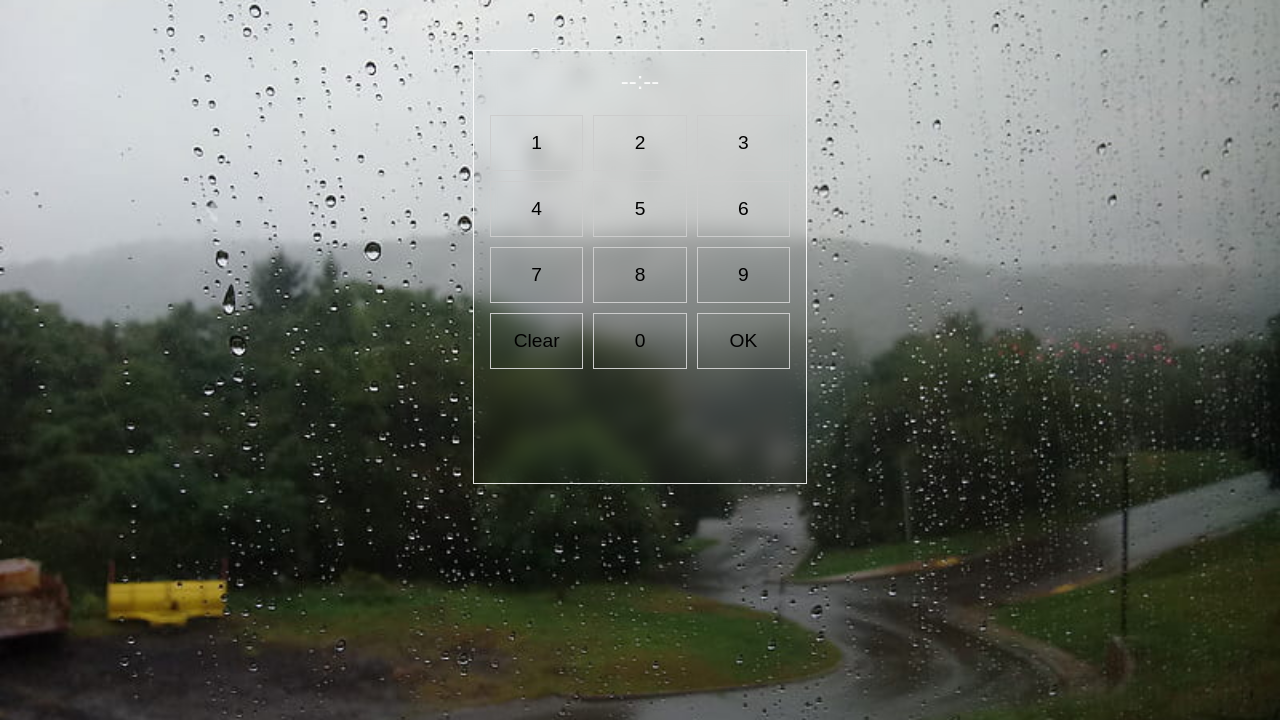
Test: Alarm › clears time when Clear is clicked
The width and height of the screenshot is (1280, 720).
Click the button "0" at x=640, y=341, box [593,313,687,369]
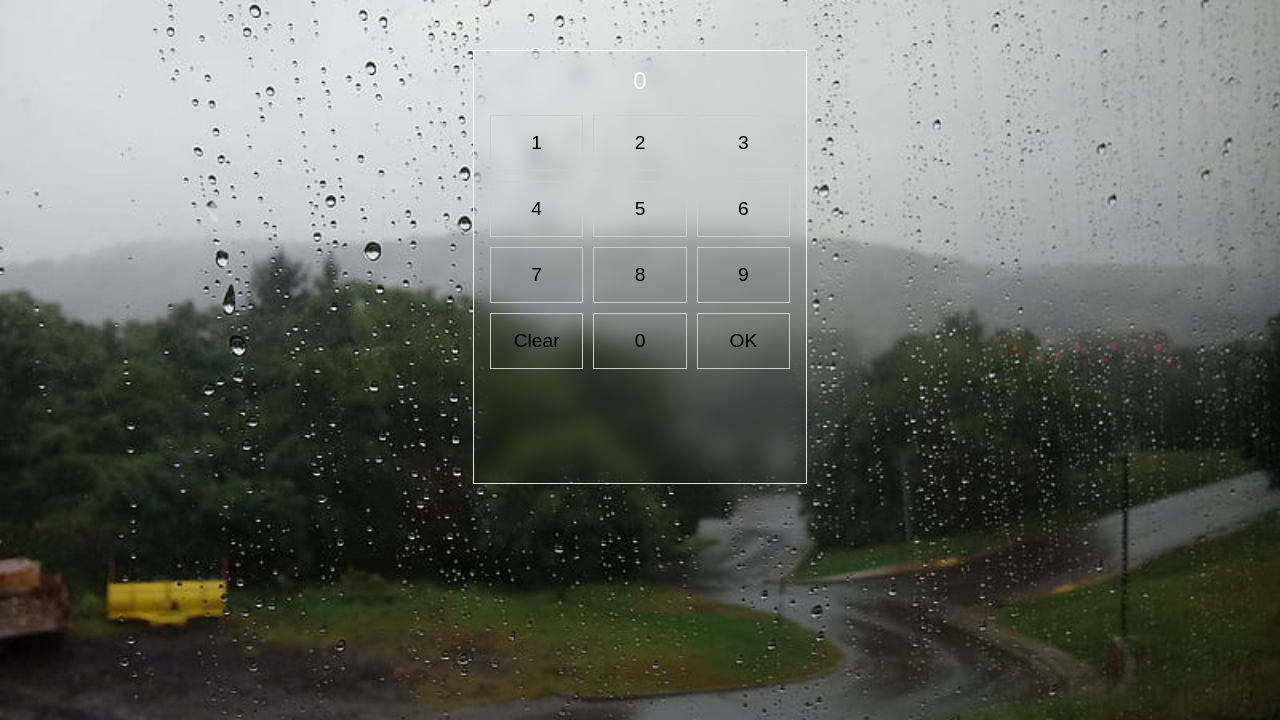
Click the button "9" at x=743, y=275, box [697,247,790,303]
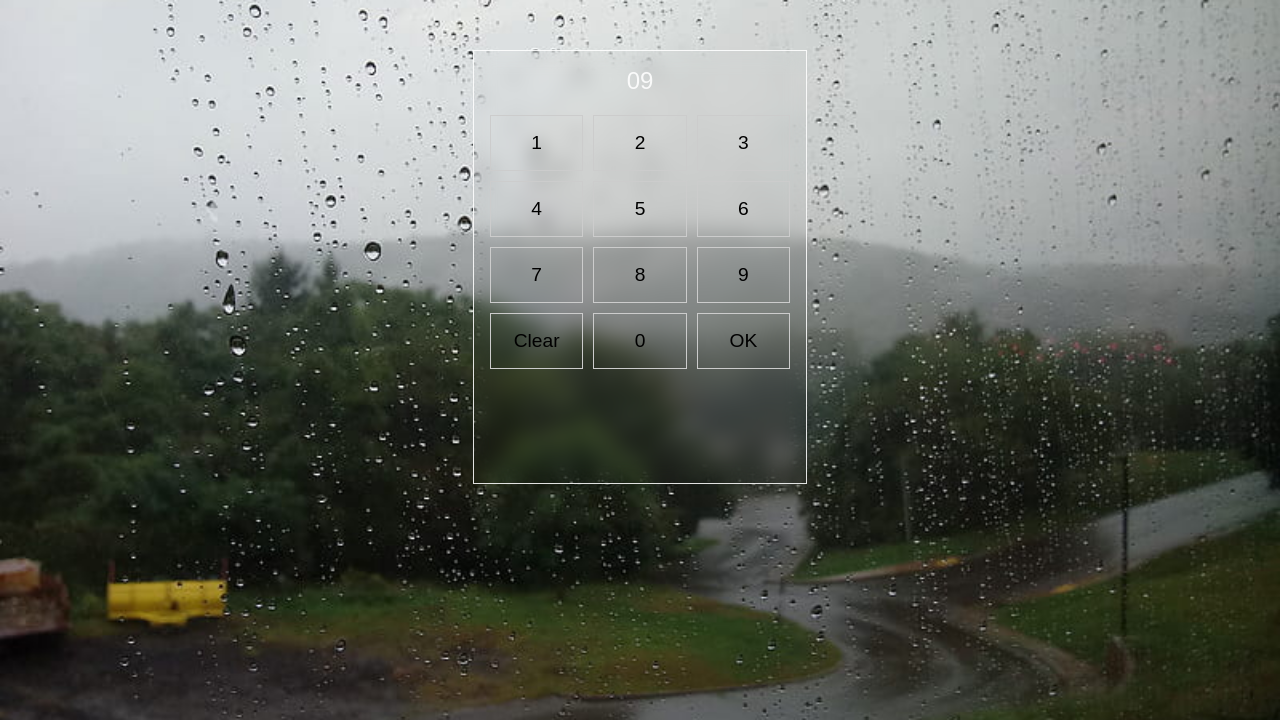
Click the button "1" at x=537, y=143, box [490,115,583,171]
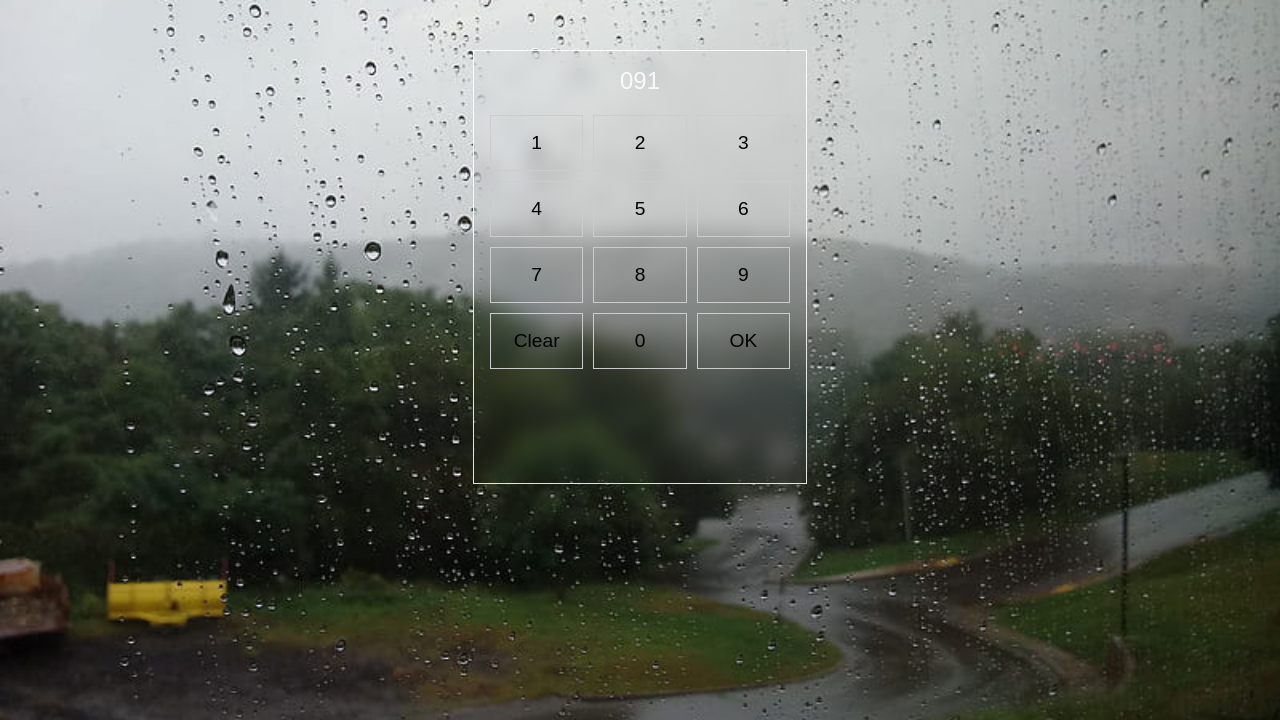
Click the button "5" at x=640, y=209, box [593,181,687,237]
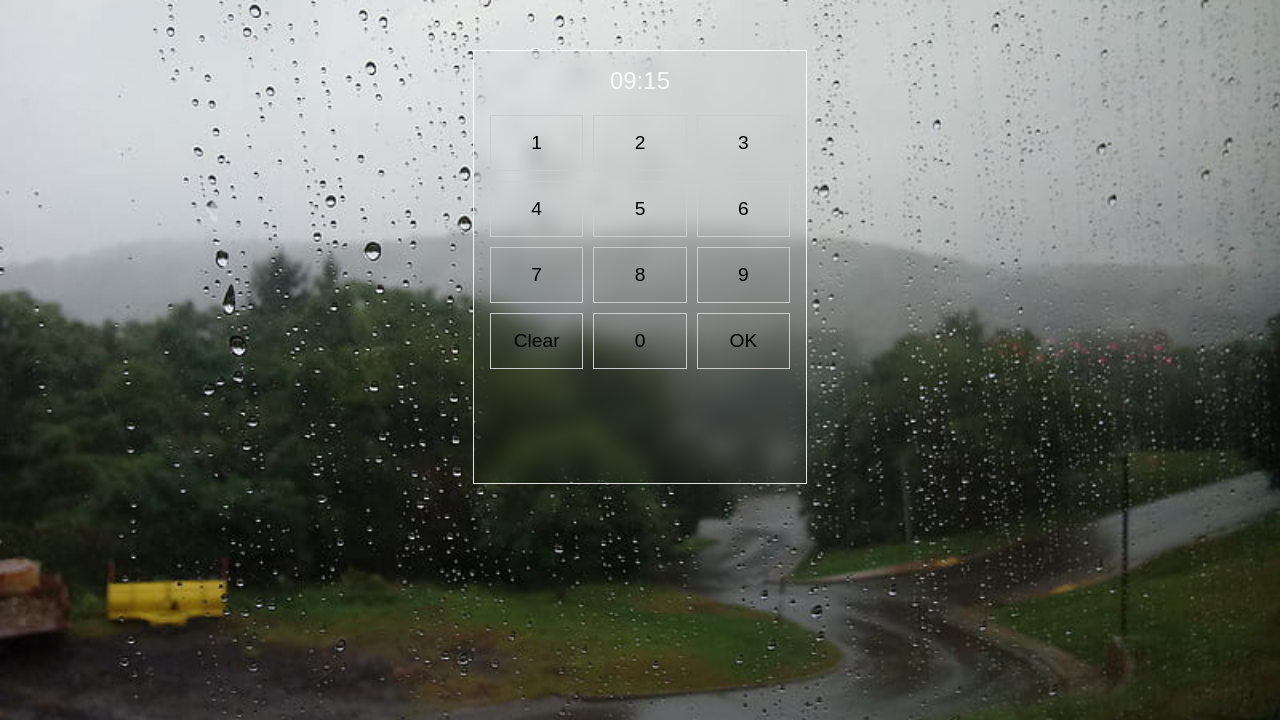
Now the text "09:15" is shown, box [610,67,670,94]
Click the button "Clear" at x=537, y=341, box [490,313,583,369]
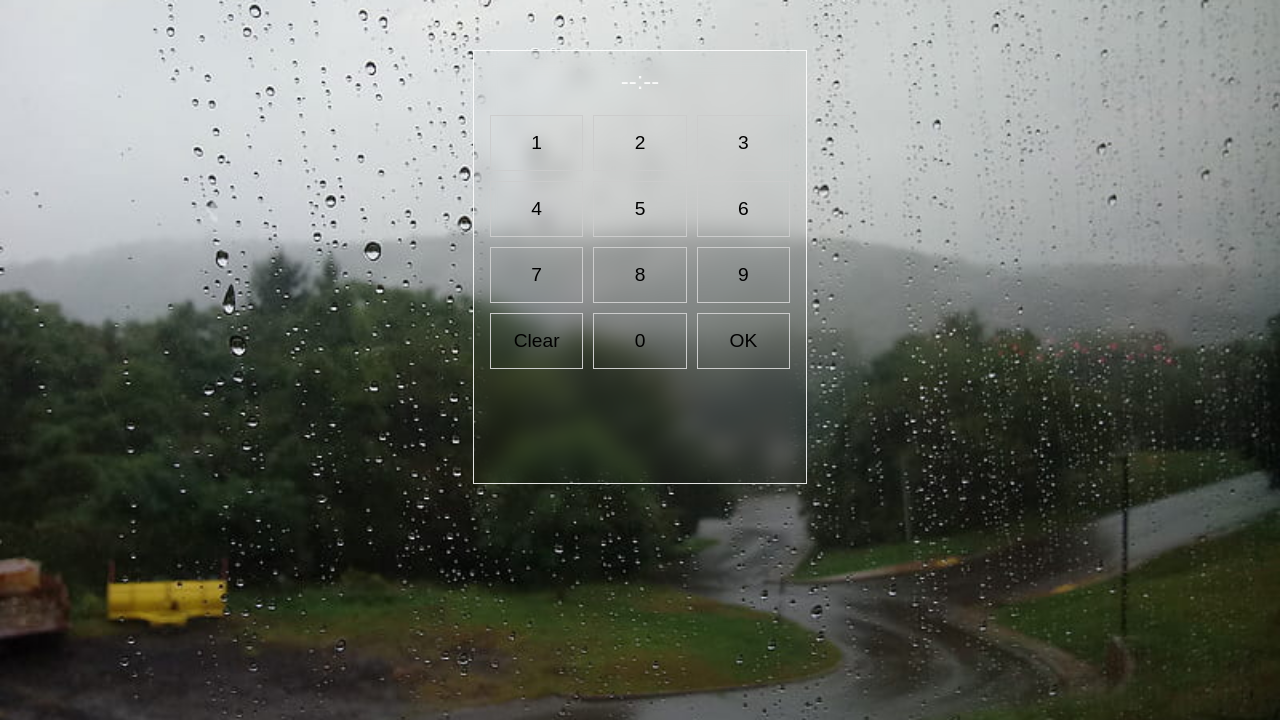
Now the text "--:--" is shown, box [621,67,659,94]
